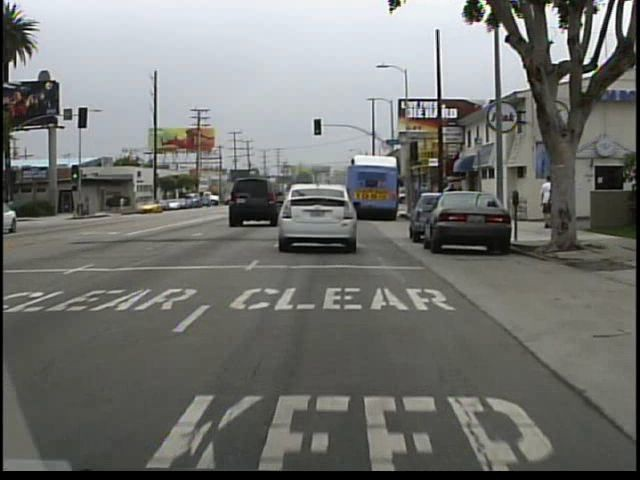person: (535, 173, 555, 233), (547, 177, 564, 233), (416, 180, 435, 220), (119, 195, 129, 212)
